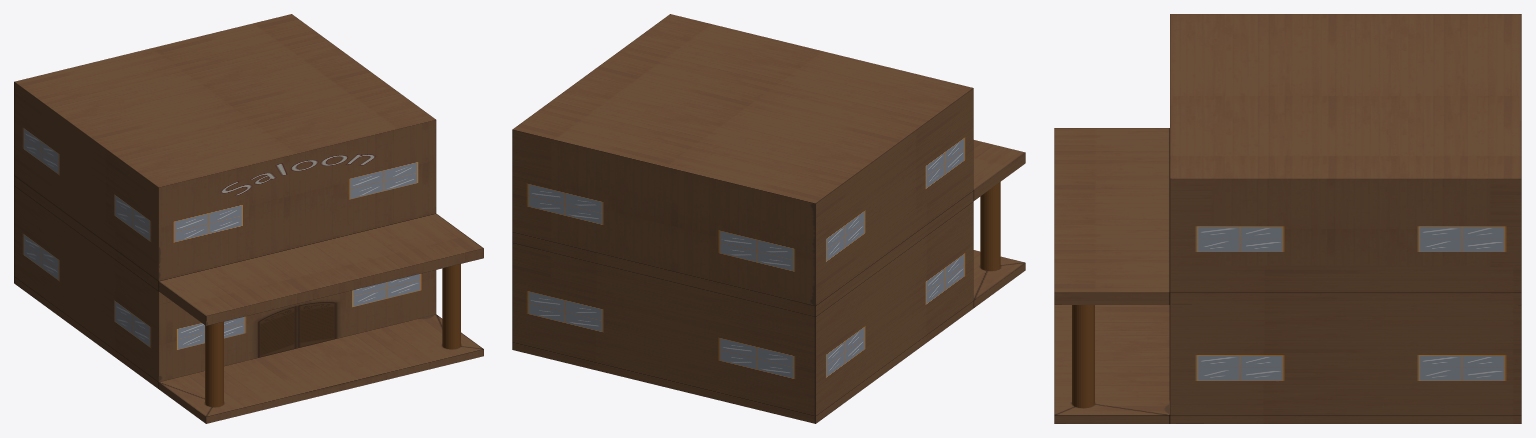
The model's file is Saloon_3.fbx.
The picture shows the model from 3 angles, left to right: view 1: azimuth 30°, elevation 25°; view 2: azimuth 150°, elevation 25°; view 3: azimuth 270°, elevation 25°; orthographic projection. The views are drawn at different scales.
Visible parts, largest first — view 1: Cube; view 2: Cube; view 3: Cube.
Part boxes in pixels (x1,y1,x2,y2): Cube: (14,14,483,423); Cube: (512,14,1025,423); Cube: (1054,14,1521,423).
Size of the model in its own units: 539 by 645 by 374.
Materials: 2 (1 with a texture image).
